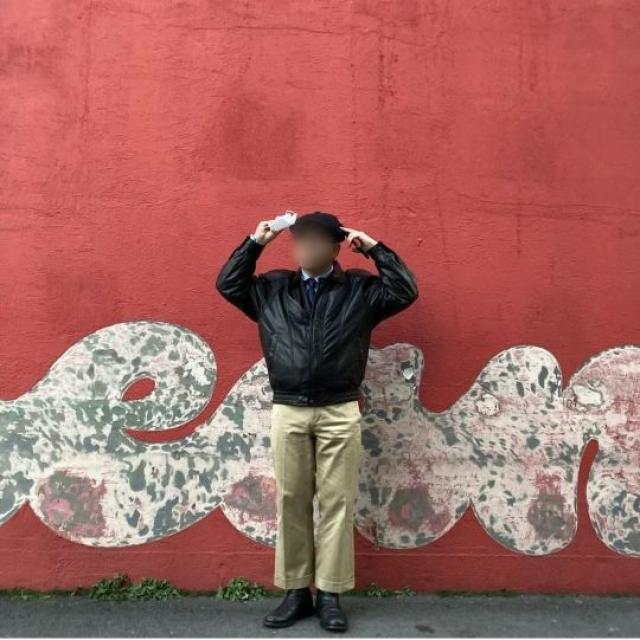cottonpants: (266, 397, 361, 594)
jacket: (214, 222, 414, 406)
